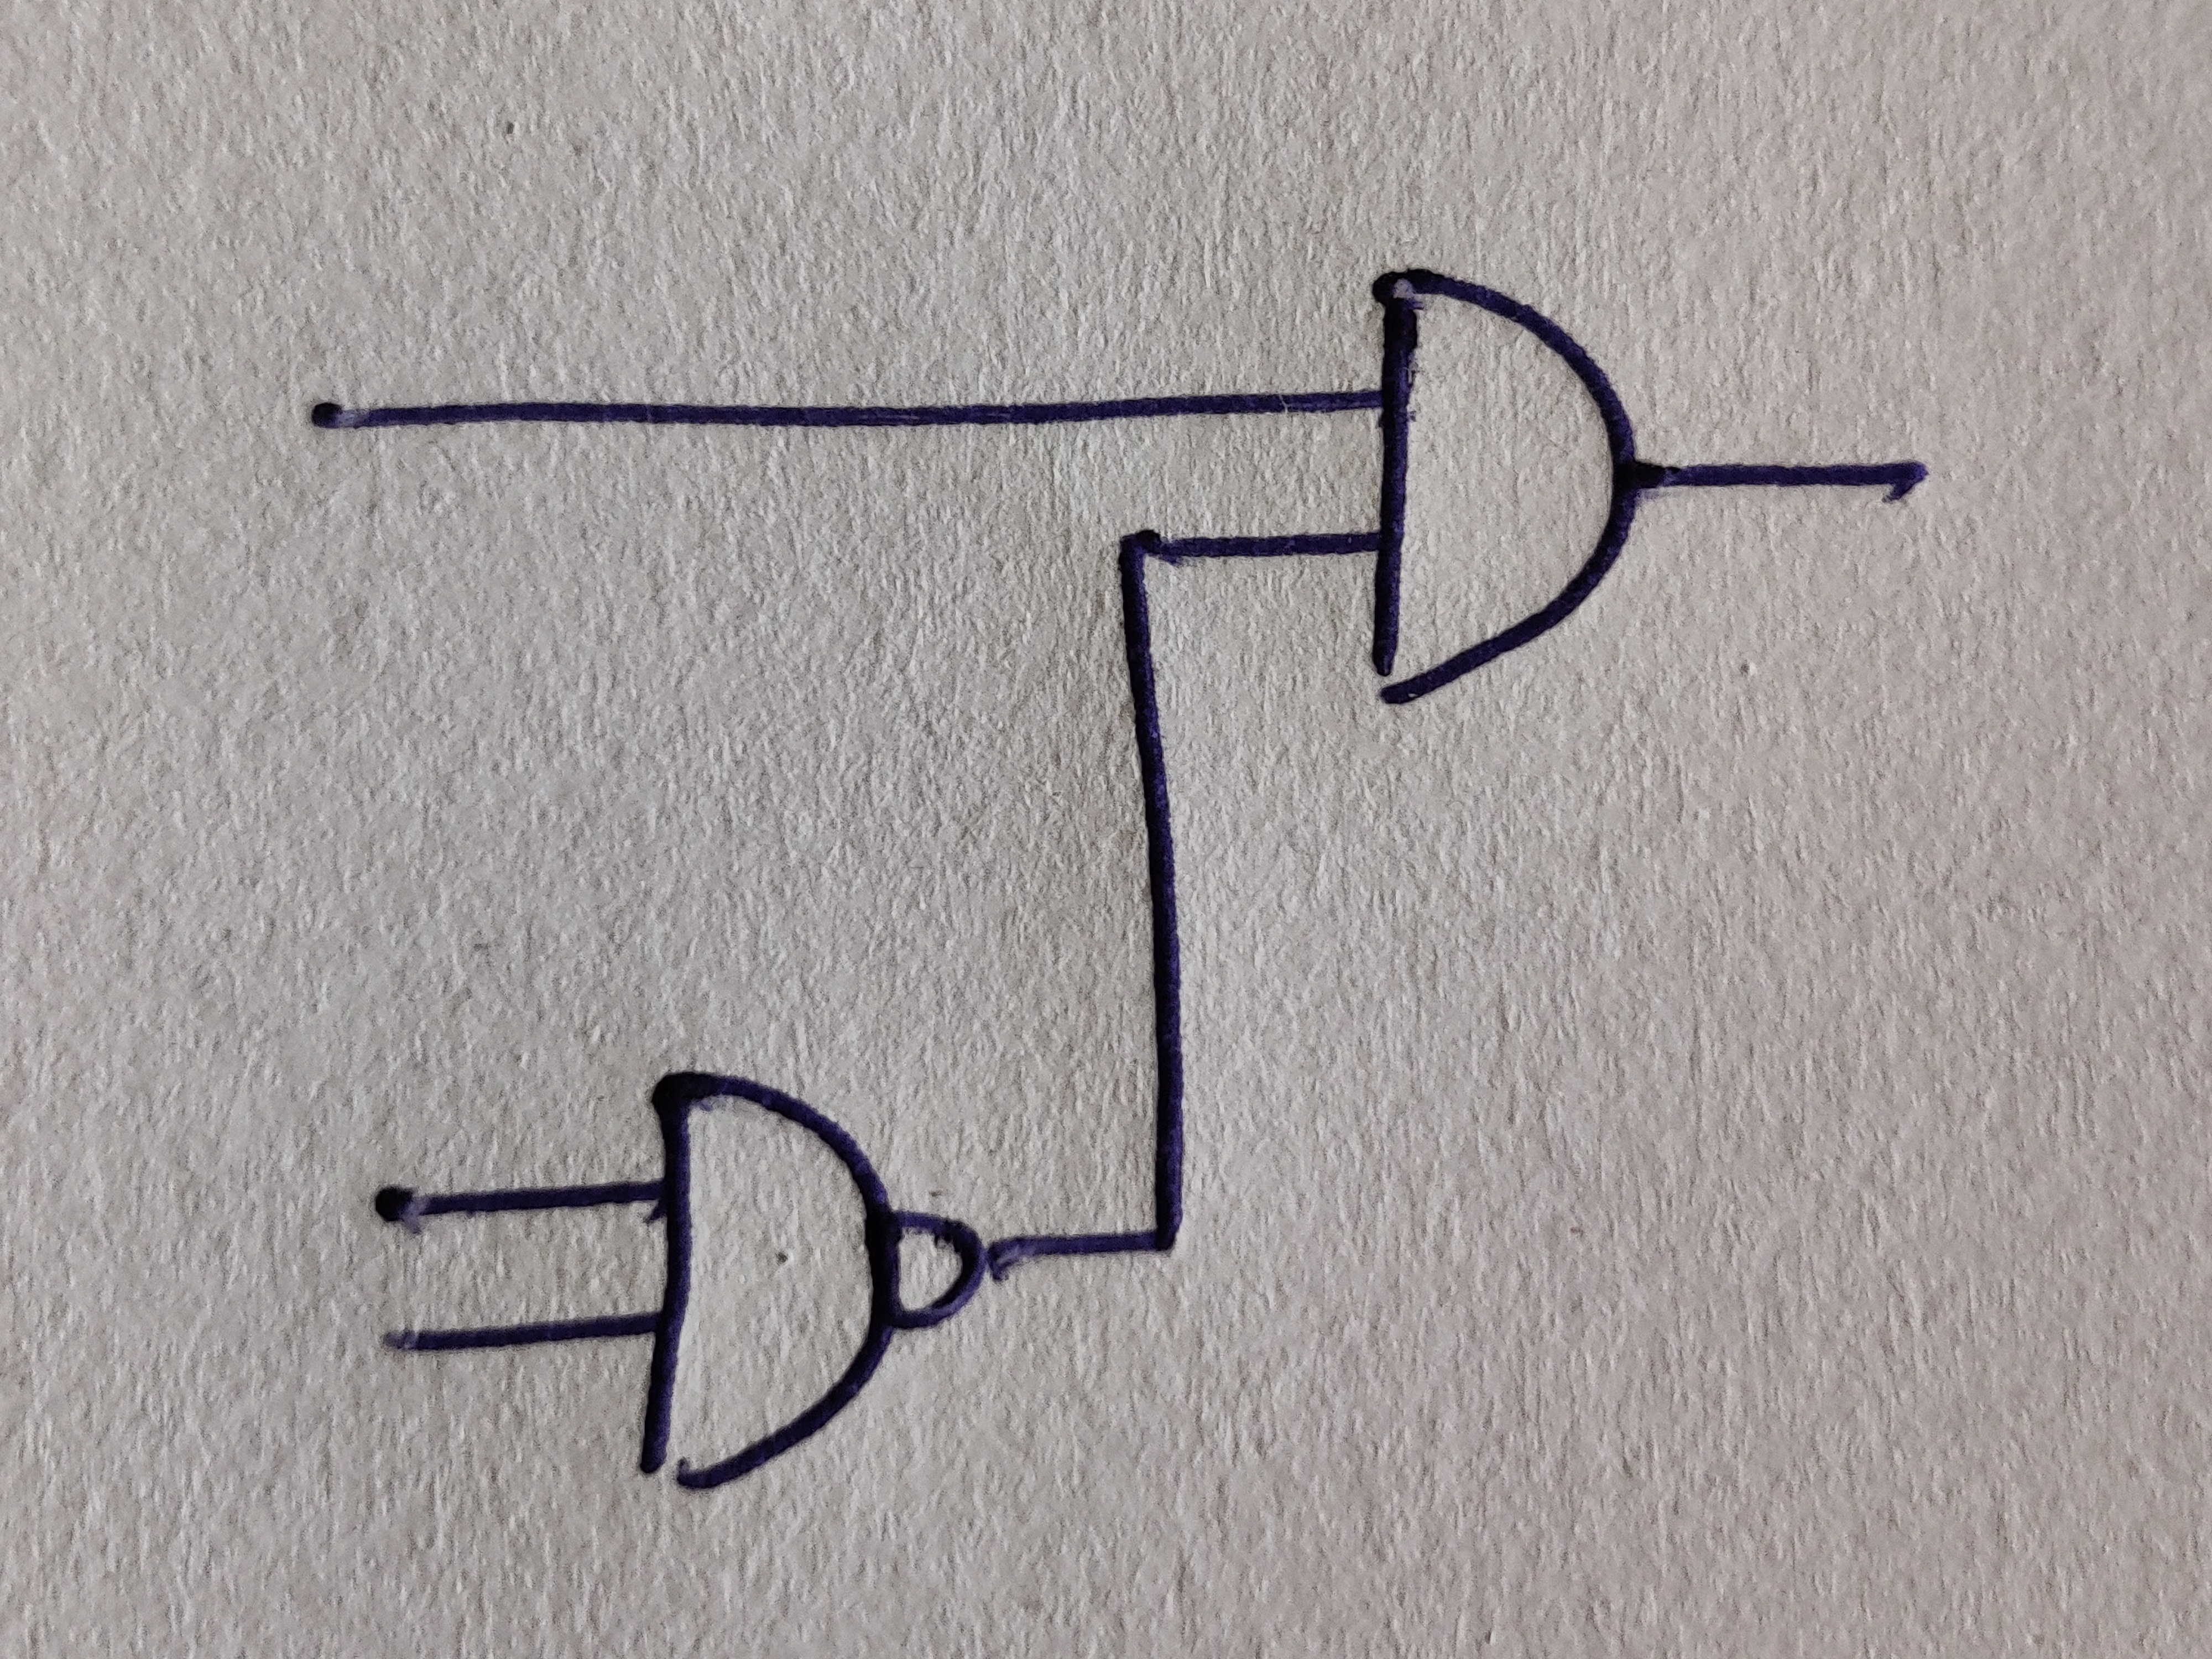and: (1371, 268, 1637, 702), (641, 1072, 899, 1490)
not: (894, 1208, 986, 1330)
